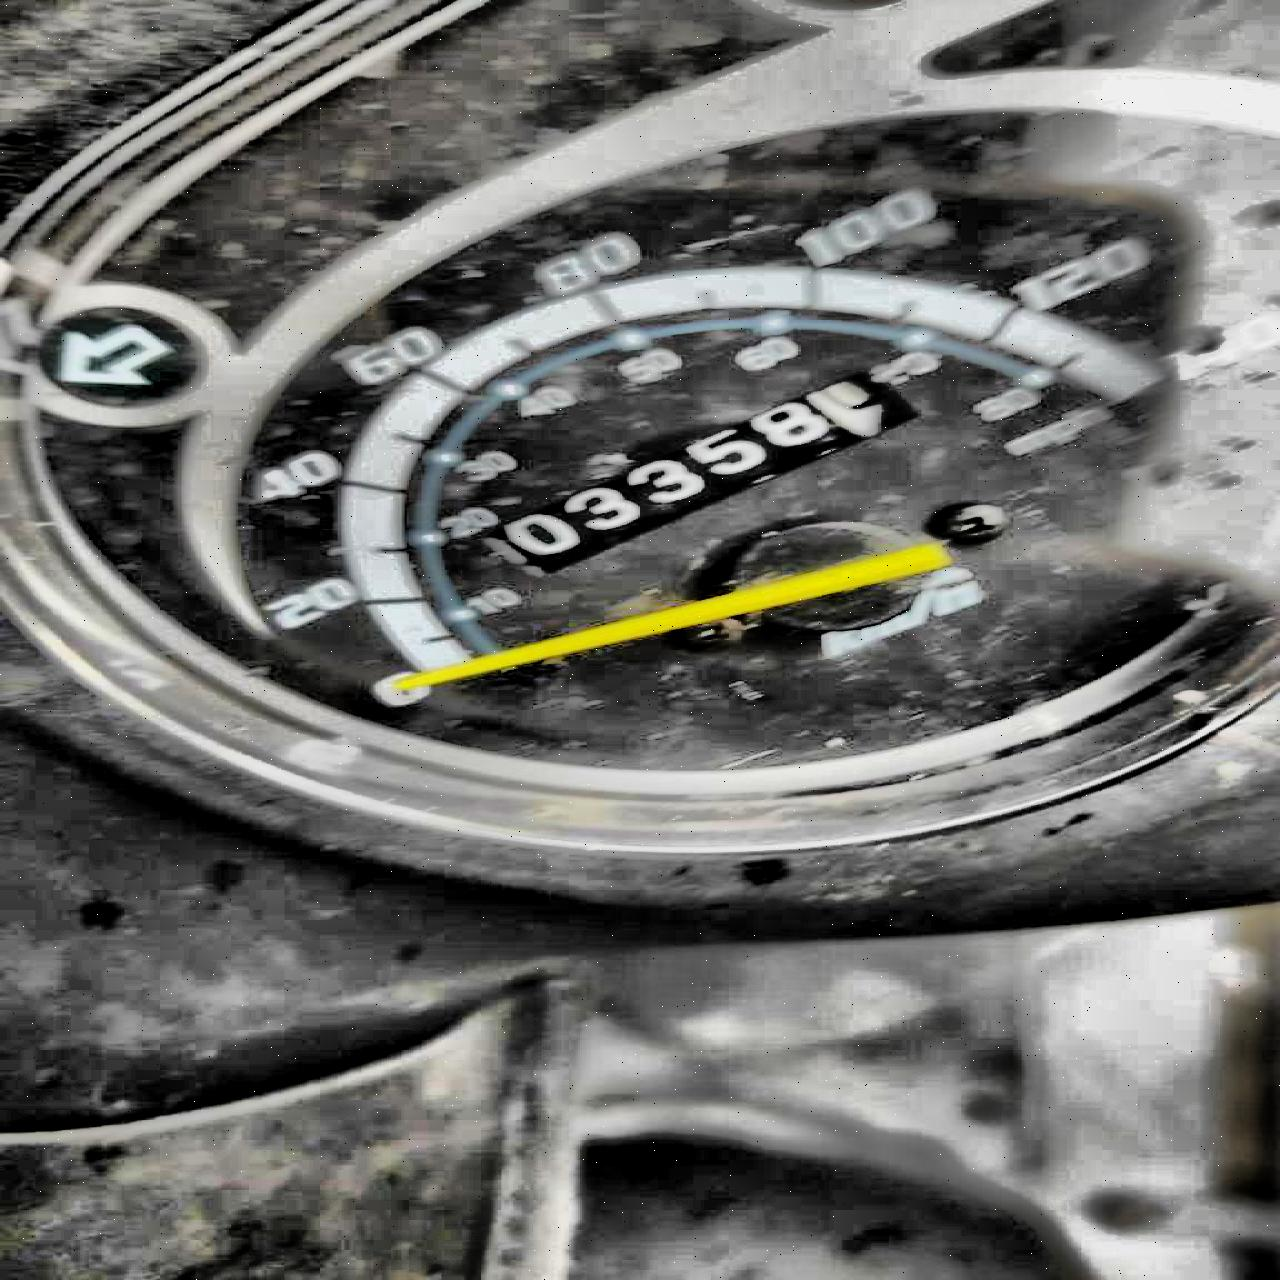0: (502, 513, 580, 558), (813, 374, 883, 413), (533, 383, 576, 407), (478, 450, 524, 470)
3: (558, 489, 638, 527), (622, 463, 702, 498), (456, 462, 497, 484)
4: (513, 397, 556, 418)
5: (680, 428, 762, 477), (613, 360, 660, 386)
8: (742, 397, 831, 450)
odometer: (459, 370, 920, 570)
